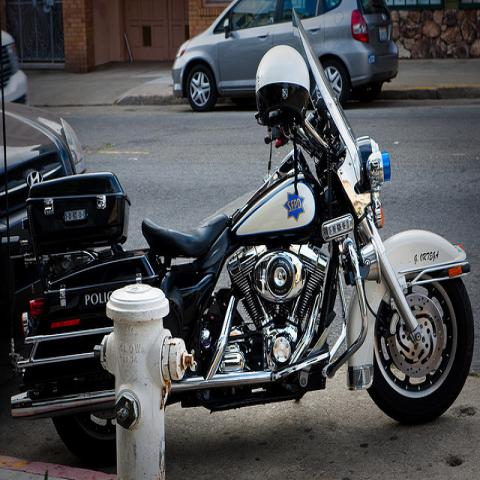car: (172, 0, 400, 117), (0, 84, 86, 255)
motorcycle: (10, 4, 474, 467)
truck: (0, 30, 29, 107)
